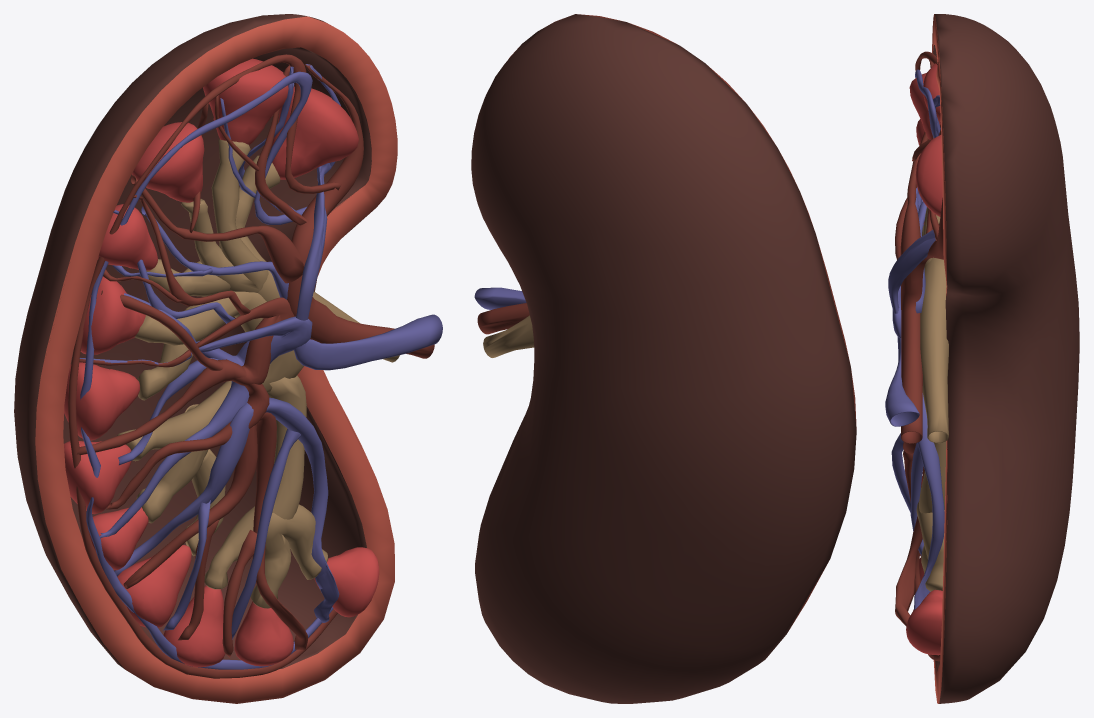
The model's file is kidney_vasc.glb.
The picture shows the model from 3 angles, left to right: view 1: azimuth 30°, elevation 25°; view 2: azimuth 150°, elevation 25°; view 3: azimuth 270°, elevation 25°; orthographic projection. The views are drawn at different scales.
Parts seen in each view (by area): view 1: KidneyOutside, Icosphere, BezierCurve, BezierCurve.002, BezierCurve.001; view 2: KidneyOutside, BezierCurve.001, BezierCurve, BezierCurve.002; view 3: KidneyOutside, BezierCurve.002, BezierCurve, BezierCurve.001, Icosphere.
Boxes of the visible parts, bbox=[...] form: KidneyOutside: bbox=[14, 14, 397, 703]; Icosphere: bbox=[64, 58, 379, 667]; BezierCurve: bbox=[68, 54, 434, 678]; BezierCurve.002: bbox=[79, 64, 442, 669]; BezierCurve.001: bbox=[117, 139, 399, 608]; KidneyOutside: bbox=[471, 14, 856, 703]; BezierCurve.001: bbox=[483, 315, 534, 357]; BezierCurve: bbox=[477, 303, 529, 334]; BezierCurve.002: bbox=[474, 287, 526, 309]; KidneyOutside: bbox=[932, 14, 1079, 703]; BezierCurve.002: bbox=[885, 69, 944, 609]; BezierCurve: bbox=[895, 51, 946, 661]; BezierCurve.001: bbox=[916, 207, 948, 591]; Icosphere: bbox=[906, 63, 942, 655].
Size of the model in its own units: 154 by 254 by 68.84.
